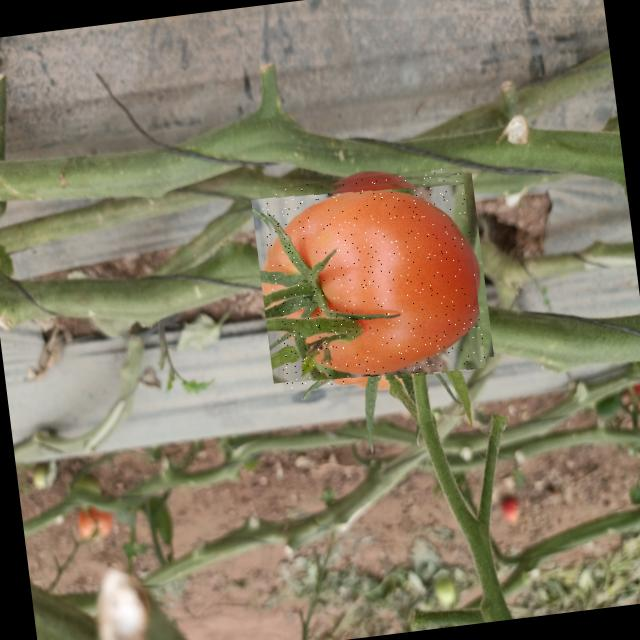Ripe Tomato: (259, 165, 486, 392)
